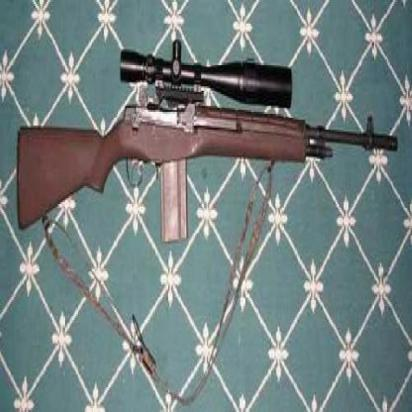Gun: (18, 57, 396, 228)
